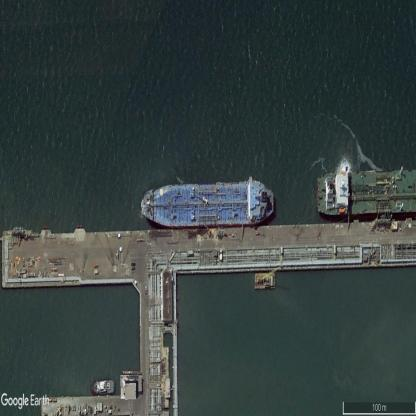ship: (140, 182, 274, 224), (316, 169, 416, 215), (90, 379, 115, 394)
